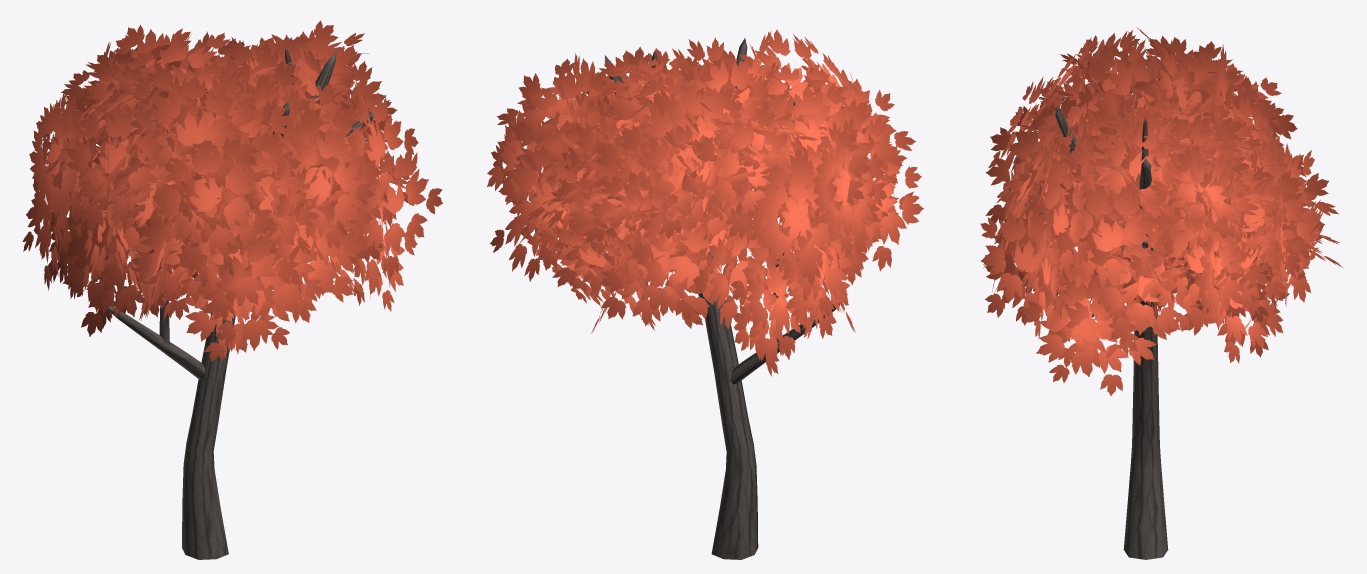
The model's file is MapleTree_4.glb.
3 renders of one model, left to right at view 1: azimuth 30°, elevation 25°; view 2: azimuth 150°, elevation 25°; view 3: azimuth 270°, elevation 25°, orthographic. The views are drawn at different scales.
Visible parts, largest first — view 1: MapleTree_4; view 2: MapleTree_4; view 3: MapleTree_4.
Part boxes in pixels (bbox=[...]): MapleTree_4: bbox=[22, 20, 442, 559]; MapleTree_4: bbox=[487, 29, 923, 559]; MapleTree_4: bbox=[980, 27, 1342, 559].
Bounding box in the file's own units: 2.77 × 3.59 × 2.44.
2 materials, 2 textured.
